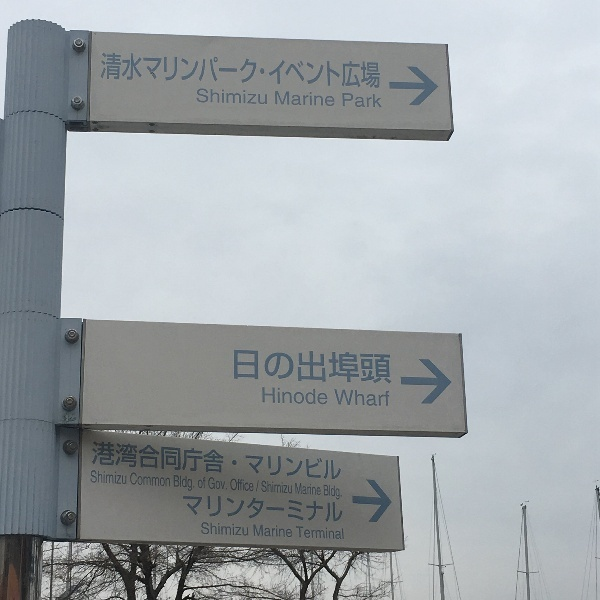text: (97, 442, 112, 481), (113, 442, 128, 481), (129, 442, 144, 481), (145, 442, 160, 481), (161, 442, 176, 481), (177, 442, 192, 481), (193, 442, 208, 481), (209, 442, 224, 481), (225, 442, 240, 481), (241, 442, 256, 481), (257, 442, 272, 481), (273, 442, 288, 481), (289, 442, 304, 481), (305, 442, 320, 481), (321, 442, 336, 481), (113, 53, 128, 89), (129, 53, 144, 89), (145, 53, 160, 89), (161, 53, 176, 89), (177, 53, 192, 89), (193, 53, 208, 89), (209, 53, 224, 89), (225, 53, 240, 89), (241, 53, 256, 89), (257, 53, 272, 89), (273, 53, 288, 89), (289, 53, 304, 89), (305, 53, 320, 89), (321, 53, 336, 89), (337, 53, 352, 89), (353, 53, 368, 89), (241, 349, 256, 384), (257, 349, 272, 384), (273, 349, 288, 384), (289, 349, 304, 384), (305, 349, 320, 384), (321, 349, 336, 384), (337, 349, 352, 384), (353, 349, 368, 384), (369, 349, 384, 384), (369, 53, 381, 89), (193, 497, 208, 524), (209, 497, 224, 524), (225, 497, 240, 524), (241, 497, 256, 524), (257, 497, 272, 524), (273, 497, 288, 524), (289, 497, 304, 524), (305, 497, 320, 524), (321, 497, 336, 524), (102, 53, 112, 89), (273, 387, 288, 405), (289, 387, 304, 405), (305, 387, 320, 405), (289, 90, 304, 107), (305, 90, 320, 107), (337, 389, 352, 406), (353, 389, 368, 406), (369, 389, 384, 406), (177, 475, 192, 492), (385, 349, 392, 384), (183, 497, 192, 524), (209, 88, 224, 104), (225, 88, 240, 104), (241, 88, 256, 104), (321, 90, 335, 107), (97, 470, 112, 485), (145, 472, 160, 487), (241, 479, 256, 494), (257, 479, 272, 494), (273, 479, 288, 494), (353, 93, 368, 108), (234, 349, 240, 384), (113, 470, 127, 485), (130, 472, 144, 487), (209, 522, 224, 536), (225, 522, 240, 536), (305, 483, 321, 496), (276, 90, 288, 107), (209, 477, 224, 490), (257, 525, 272, 538), (273, 525, 288, 538), (305, 526, 320, 539), (321, 526, 336, 539), (369, 93, 382, 108), (324, 485, 336, 500), (263, 387, 272, 405), (337, 497, 343, 524), (198, 88, 208, 104), (257, 88, 267, 104), (337, 442, 341, 481), (230, 479, 240, 494), (342, 93, 352, 108), (161, 472, 170, 487), (198, 477, 208, 489), (93, 442, 96, 481), (295, 483, 304, 496), (241, 522, 249, 536), (321, 387, 327, 405), (296, 526, 304, 539), (337, 526, 344, 539), (385, 389, 390, 406), (202, 522, 208, 536), (337, 485, 342, 500), (92, 470, 96, 485), (289, 479, 293, 494), (289, 525, 292, 538), (334, 389, 336, 406), (174, 475, 176, 492), (193, 475, 195, 492), (225, 477, 227, 490), (254, 525, 256, 538)
